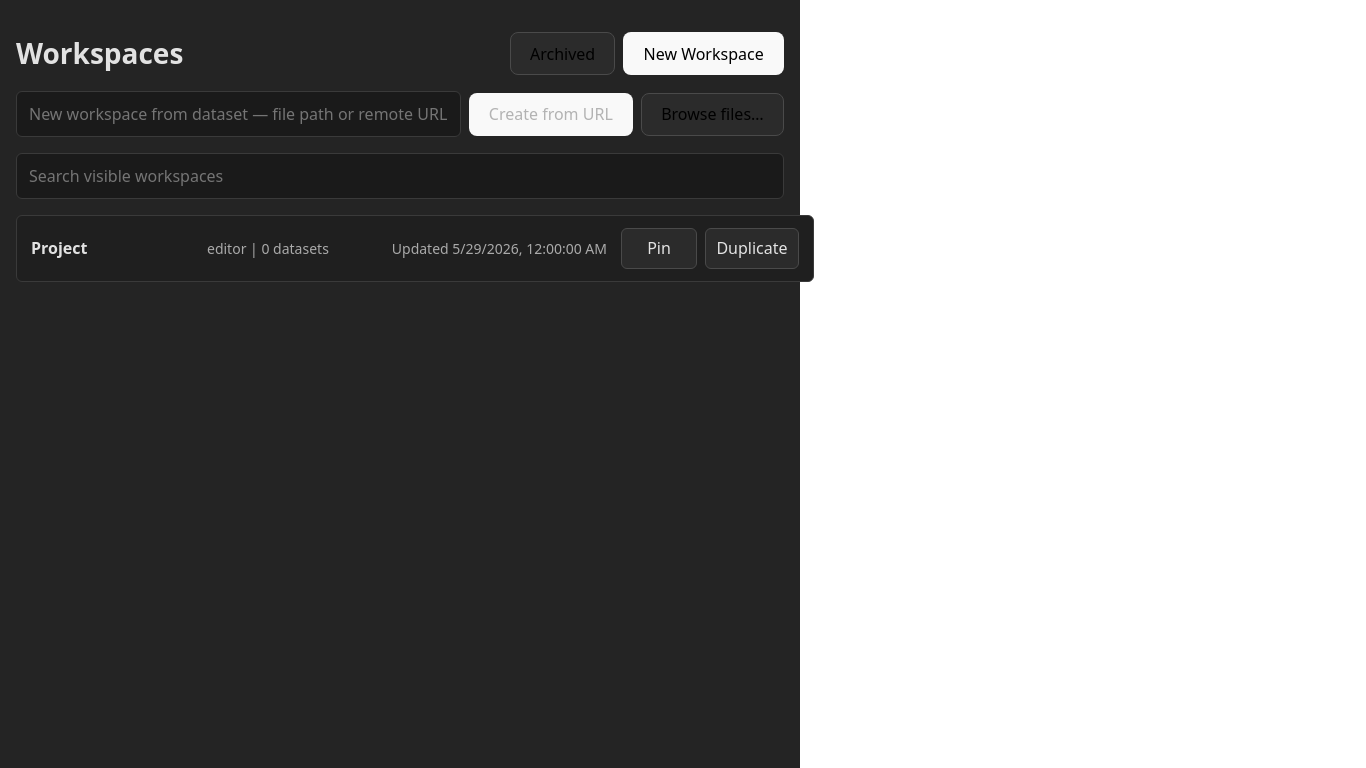
Test: WorkspaceDashboard › surfaces an error when duplicating fails and stays on the dashboard (#698)
Click the button with aria-label "Duplicate Project": (752, 248) [705,228,799,269]
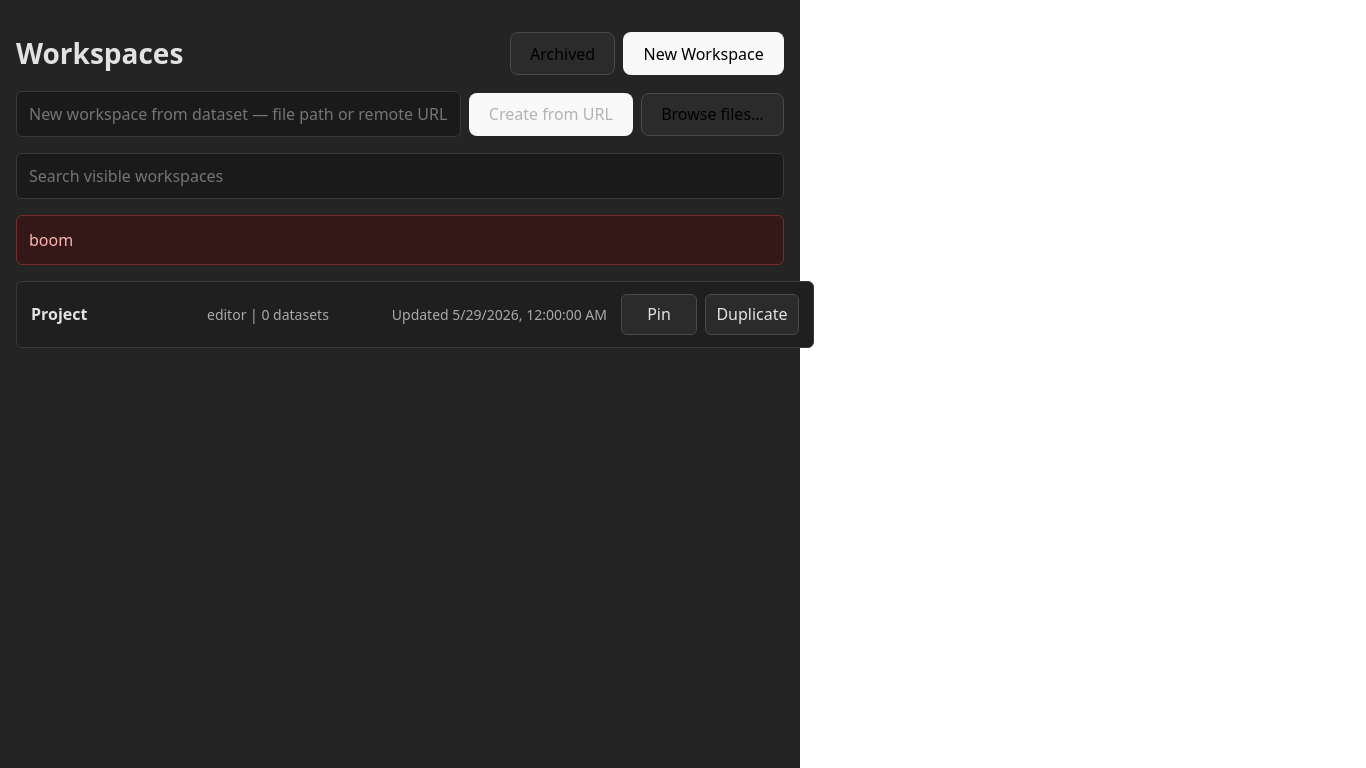
Check: the text "boom" is shown, box [16,215,784,265]
